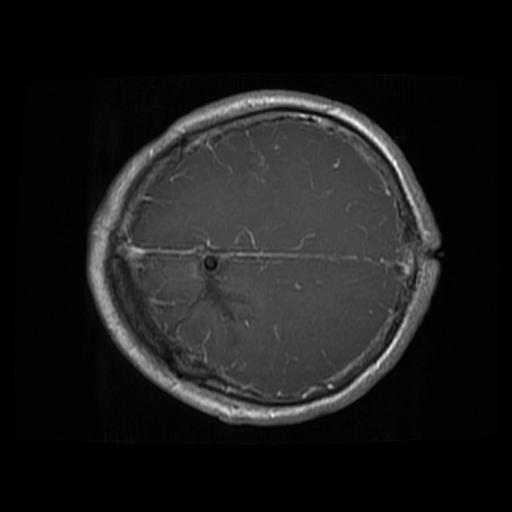glioma: (187, 273, 250, 322)
